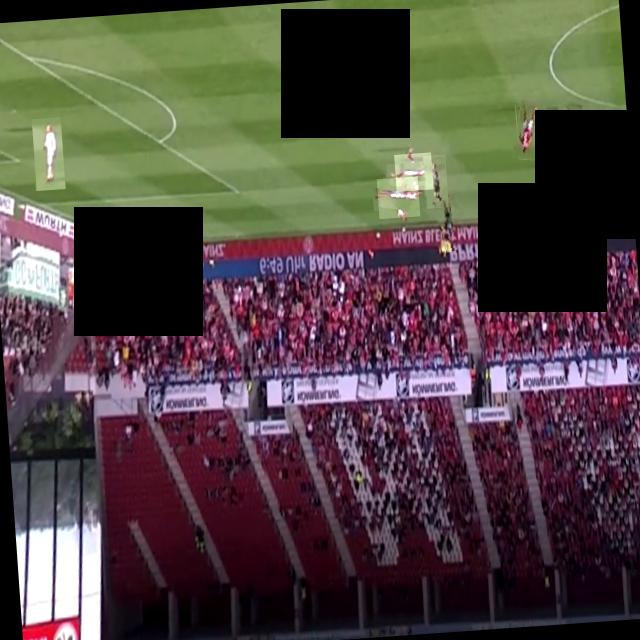goalkeeper: (30, 116, 64, 190)
referee: (604, 118, 630, 156)
soccer-player: (330, 72, 384, 128), (510, 98, 546, 160), (486, 183, 520, 247), (375, 175, 419, 218), (556, 99, 586, 158), (393, 151, 432, 190), (422, 153, 448, 207), (578, 160, 614, 197), (434, 198, 456, 250)
